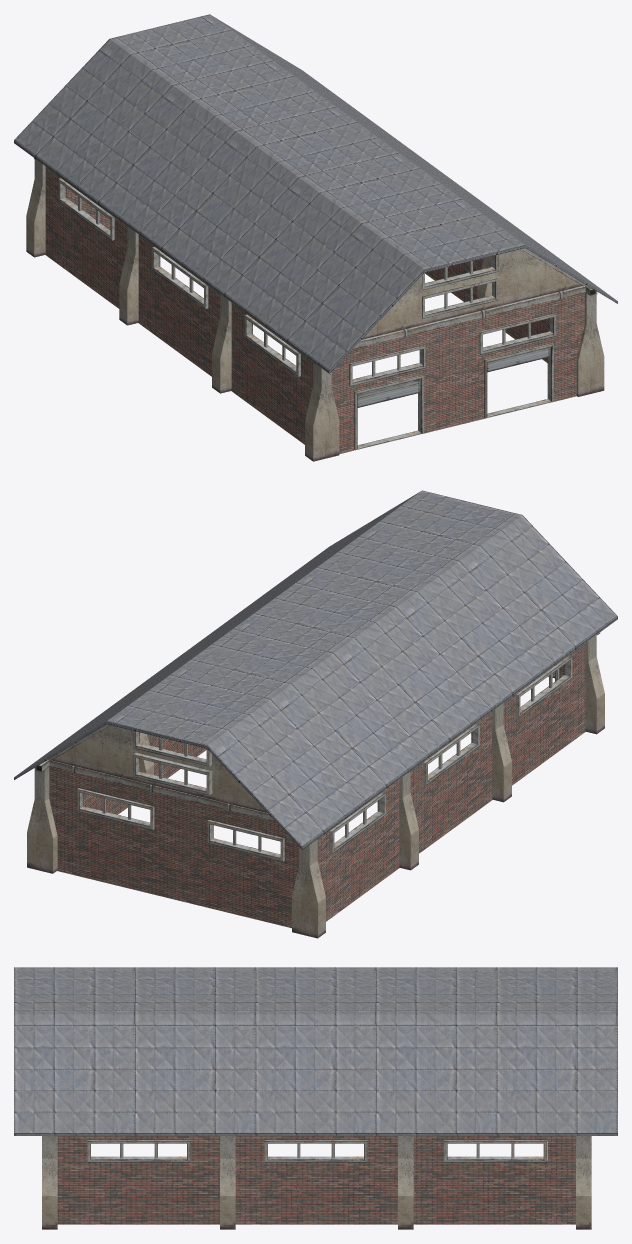
The model's file is ind6_hall2_lod.dae.
3 renders of one model, top to bottom at view 1: azimuth 30°, elevation 25°; view 2: azimuth 150°, elevation 25°; view 3: azimuth 270°, elevation 25°, orthographic. The views are drawn at different scales.
Parts seen in each view (by area): view 1: Mesh; view 2: Mesh; view 3: Mesh.
Boxes of the visible parts, x1=… form: Mesh: x1=14, y1=14, x2=617, y2=461; Mesh: x1=14, y1=490, x2=617, y2=938; Mesh: x1=14, y1=967, x2=617, y2=1229.
Bounding box in the file's own units: 23.15 × 13.66 × 43.5.
